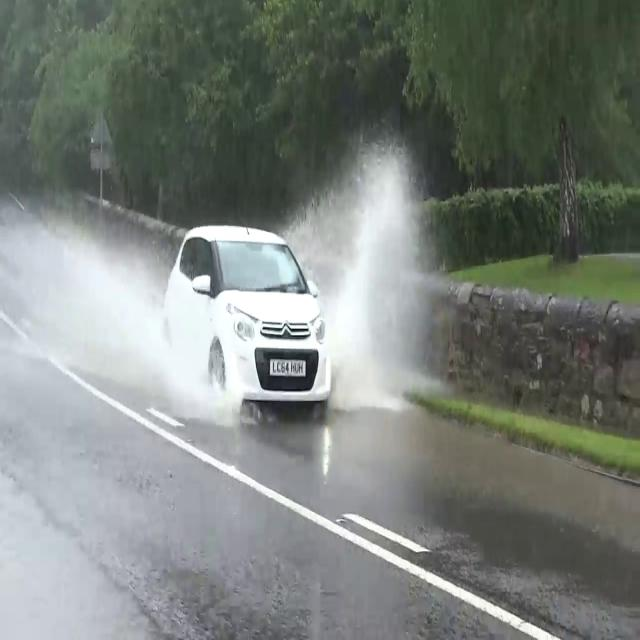license-plate-annotation: (268, 356, 312, 383)
